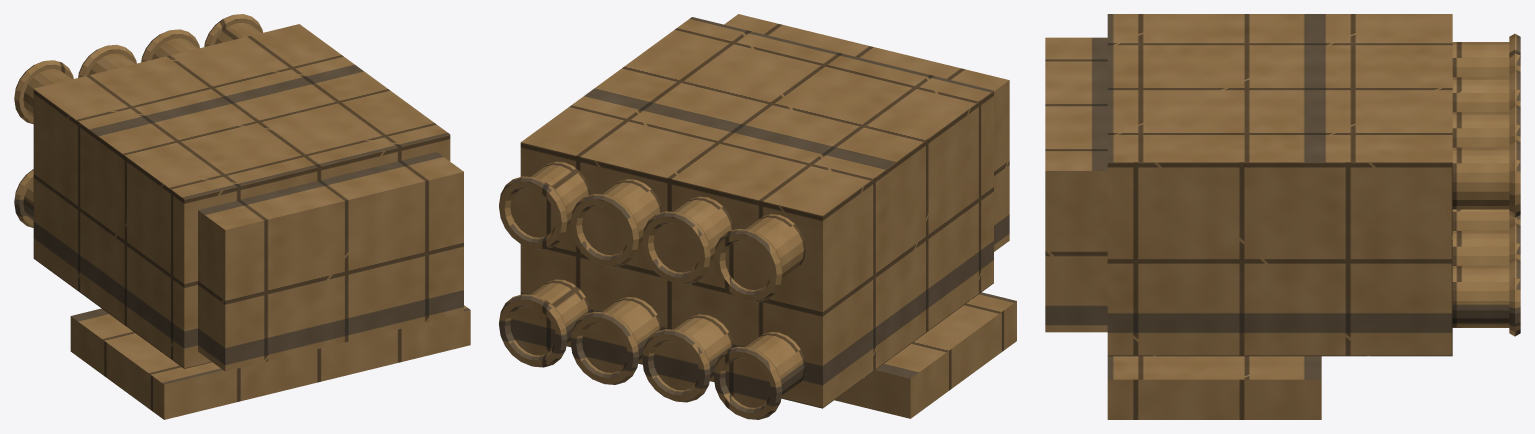
The model's file is swarm8_pod.glb.
3 renders of one model, left to right at view 1: azimuth 30°, elevation 25°; view 2: azimuth 150°, elevation 25°; view 3: azimuth 270°, elevation 25°, orthographic. The views are drawn at different scales.
Visible parts, largest first — view 1: pod_shell, rear_bus, mount_frame, tube_lip_4, tube_4, tube_lip_6, tube_lip_5, tube_lip_7, tube_lip_0, tube_5, tube_6, tube_7; view 2: pod_shell, mount_frame, rear_bus, tube_0, tube_4, tube_1, tube_7, tube_2, tube_5, tube_3, tube_6, tube_lip_1 (+7 smaller); view 3: pod_shell, rear_bus, mount_frame, tube_7, tube_3, tube_6, tube_4, tube_5, tube_2, tube_1, tube_lip_3, tube_lip_7.
Boxes of the visible parts, bbox=[...] form: pod_shell: bbox=[33, 24, 450, 368]; rear_bus: bbox=[198, 152, 463, 371]; mount_frame: bbox=[70, 305, 470, 419]; tube_lip_4: bbox=[14, 60, 73, 124]; tube_4: bbox=[23, 69, 71, 117]; tube_lip_6: bbox=[141, 29, 199, 62]; tube_lip_5: bbox=[78, 44, 136, 77]; tube_lip_7: bbox=[204, 14, 262, 46]; tube_lip_0: bbox=[14, 169, 33, 227]; tube_5: bbox=[88, 53, 134, 75]; tube_6: bbox=[151, 38, 198, 59]; tube_7: bbox=[214, 23, 261, 44]; pod_shell: bbox=[520, 17, 993, 408]; mount_frame: bbox=[834, 292, 1016, 418]; rear_bus: bbox=[724, 14, 1009, 251]; tube_0: bbox=[725, 332, 805, 407]; tube_4: bbox=[725, 214, 805, 289]; tube_1: bbox=[653, 314, 733, 390]; tube_7: bbox=[510, 161, 590, 237]; tube_2: bbox=[582, 297, 662, 372]; tube_5: bbox=[653, 196, 733, 272]; tube_3: bbox=[510, 279, 590, 355]; tube_6: bbox=[582, 179, 662, 255]; tube_lip_1: bbox=[642, 329, 710, 402]; pod_shell: bbox=[1107, 14, 1452, 356]; rear_bus: bbox=[1045, 37, 1107, 332]; mount_frame: bbox=[1107, 356, 1321, 419]; tube_7: bbox=[1452, 147, 1509, 209]; tube_3: bbox=[1452, 266, 1509, 327]; tube_6: bbox=[1452, 112, 1509, 147]; tube_4: bbox=[1452, 42, 1509, 77]; tube_5: bbox=[1452, 77, 1509, 112]; tube_2: bbox=[1452, 231, 1509, 265]; tube_1: bbox=[1452, 209, 1509, 230]; tube_lip_3: bbox=[1509, 258, 1520, 336]; tube_lip_7: bbox=[1509, 139, 1520, 217].
Size of the model in its own units: 1.36 by 0.915 by 1.6.
1 material, 1 textured.
